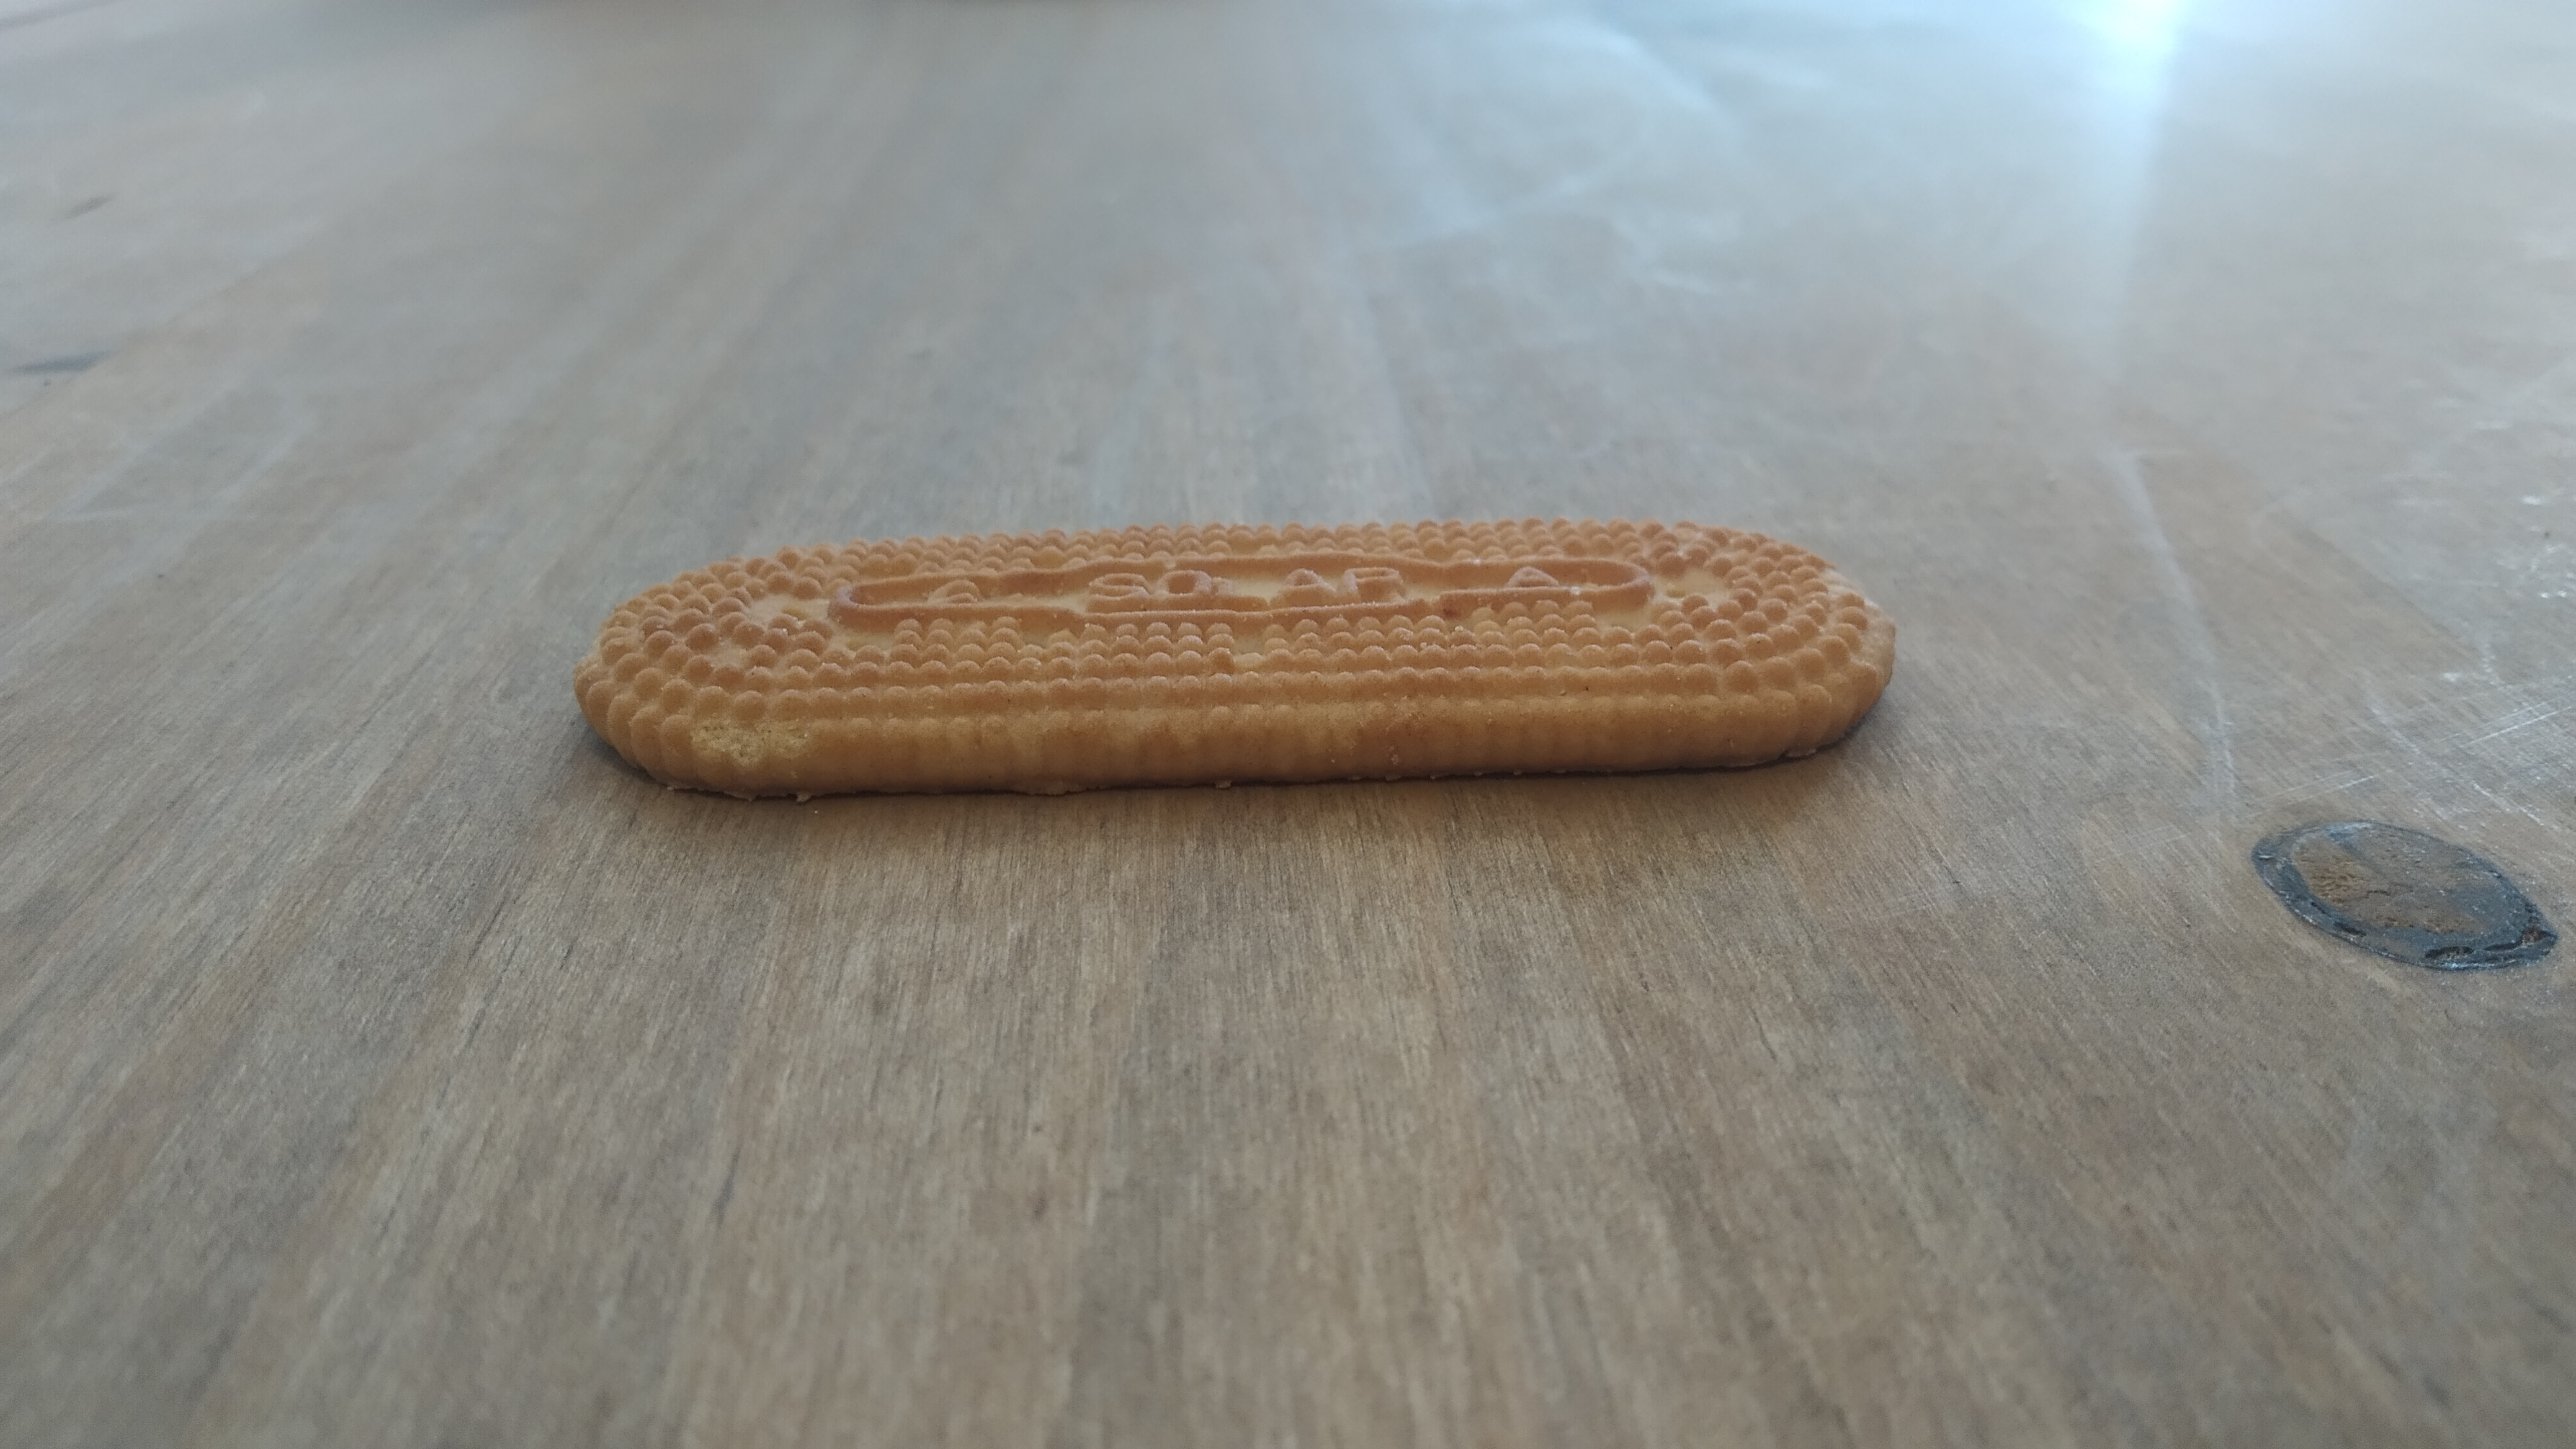solar: (571, 517, 1897, 803)
